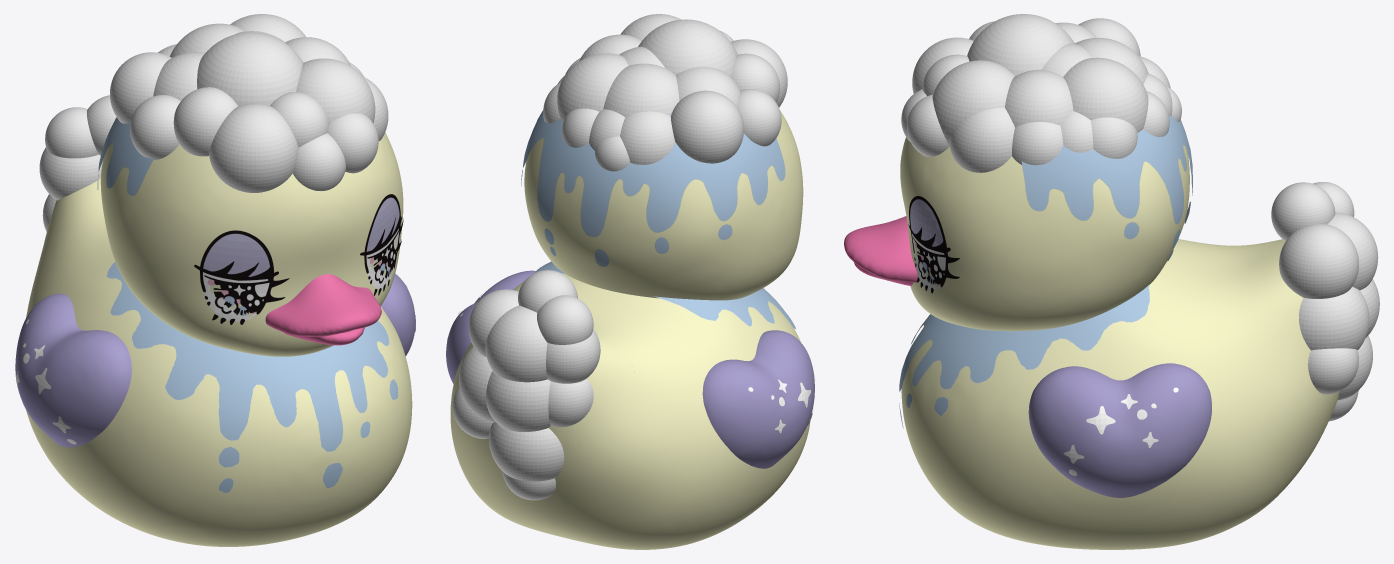
3 renders of one model, left to right at view 1: azimuth 30°, elevation 25°; view 2: azimuth 150°, elevation 25°; view 3: azimuth 270°, elevation 25°, orthographic. The views are drawn at different scales.
Parts seen in each view (by area): view 1: Karada.001, Fix, 平面.009, Te, 平面.001, 球.003, 球, Kuchi, 球.001, 球.004, 球.006, 球.005 (+14 smaller); view 2: Karada.001, Fix, 平面.007, Te, 球.006, 球.022, 球, 球.030, 球.008, 球.027, 球.009, 球.016 (+21 smaller); view 3: Karada.001, Fix, Te.001, 平面.007, 平面.009, 球.024, 球.009, 球, 球.001, 球.028, Kuchi, 球.013 (+18 smaller).
Boxes of the visible parts, left/top/right/bottom form: Karada.001: left=26, top=178, right=412, bottom=546; Fix: left=100, top=132, right=403, bottom=356; 平面.009: left=64, top=229, right=398, bottom=492; Te: left=15, top=293, right=131, bottom=447; 平面.001: left=194, top=194, right=403, bottom=324; 球.003: left=209, top=103, right=298, bottom=192; 球: left=197, top=32, right=303, bottom=106; Kuchi: left=265, top=274, right=381, bottom=345; 球.001: left=296, top=58, right=375, bottom=123; 球.004: left=173, top=87, right=238, bottom=156; 球.006: left=110, top=52, right=171, bottom=123; 球.005: left=130, top=95, right=180, bottom=159; Karada.001: left=450, top=273, right=810, bottom=549; Fix: left=524, top=110, right=803, bottom=300; 平面.007: left=521, top=110, right=785, bottom=266; Te: left=702, top=330, right=814, bottom=468; 球.006: left=671, top=90, right=743, bottom=163; 球.022: left=485, top=305, right=547, bottom=382; 球: left=638, top=19, right=737, bottom=76; 球.030: left=488, top=422, right=564, bottom=481; 球.008: left=603, top=63, right=679, bottom=117; 球.027: left=486, top=371, right=550, bottom=431; 球.009: left=557, top=53, right=628, bottom=120; 球.016: left=620, top=111, right=674, bottom=164; Karada.001: left=901, top=239, right=1339, bottom=549; Fix: left=900, top=137, right=1189, bottom=331; Te.001: left=1028, top=363, right=1211, bottom=497; 平面.007: left=1021, top=115, right=1192, bottom=261; 平面.009: left=899, top=285, right=1149, bottom=428; 球.024: left=1279, top=223, right=1358, bottom=298; 球.009: left=1063, top=57, right=1148, bottom=132; 球: left=967, top=14, right=1074, bottom=76; 球.001: left=932, top=60, right=1014, bottom=145; 球.028: left=1299, top=286, right=1369, bottom=350; Kuchi: left=844, top=216, right=917, bottom=285; 球.013: left=949, top=107, right=1014, bottom=172.
Bounding box in the file's own units: 54.57 × 69.29 × 70.26.
8 materials, 5 textured.
